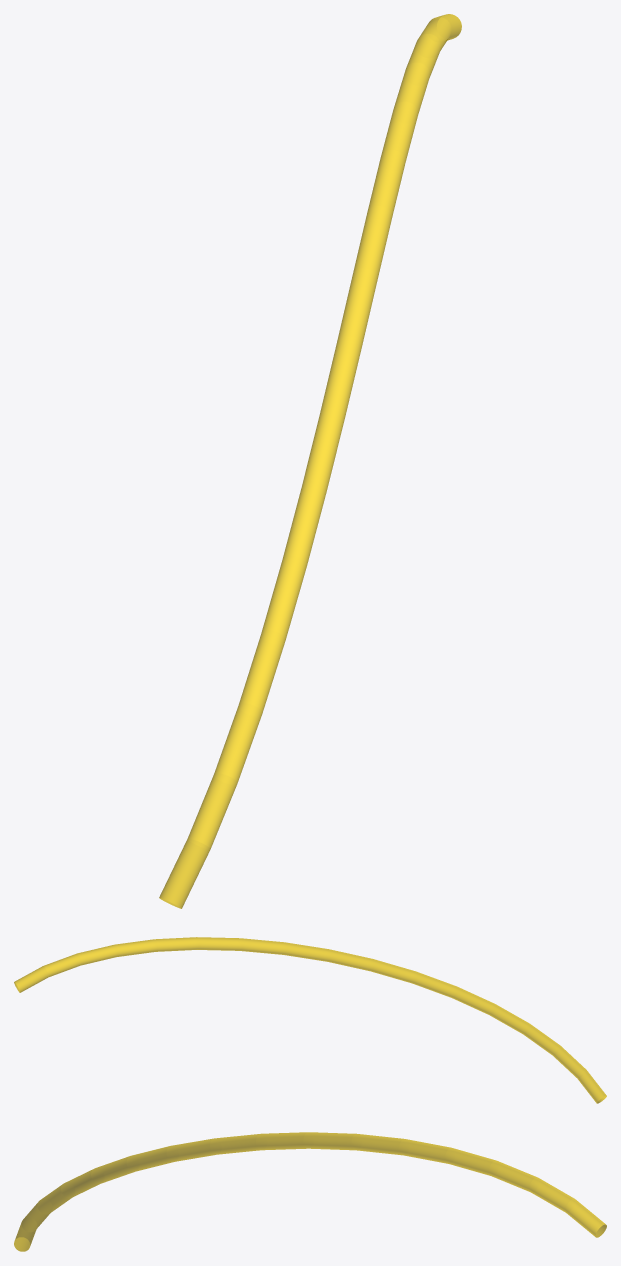
Rendered from Event_402970704_track_61.fbx.
The picture shows the model from 3 angles, top to bottom: view 1: azimuth 30°, elevation 25°; view 2: azimuth 150°, elevation 25°; view 3: azimuth 270°, elevation 25°; orthographic projection. The views are drawn at different scales.
Visible parts, largest first — view 1: Model; view 2: Model; view 3: Model.
Boxes of the visible parts, x1,y1,x2,y2 form: Model: [159, 14, 461, 908]; Model: [14, 937, 606, 1103]; Model: [14, 1132, 606, 1251].
Bounding box in the file's own units: 1.34 × 0.7494 × 1.43.
